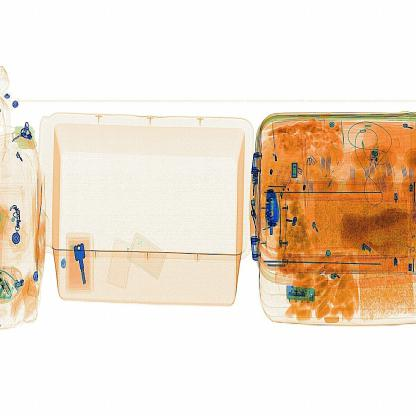scissors: (260, 178, 290, 244)
